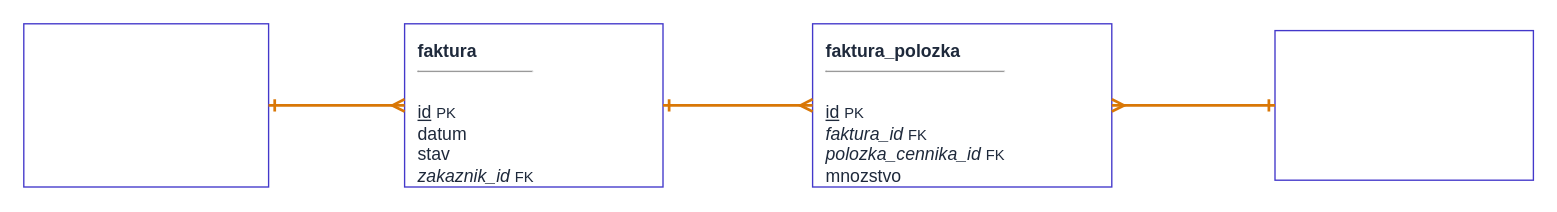
Some shapes in this 1557 by 212 pixel diagram are drawn without their labels. Here are the shapes that lost their labels. From the top down, the centre of each, then its label:
(145,104): zakaznik id PK meno email adresa
(1403,104): polozka_cennika id PK nazov cena
